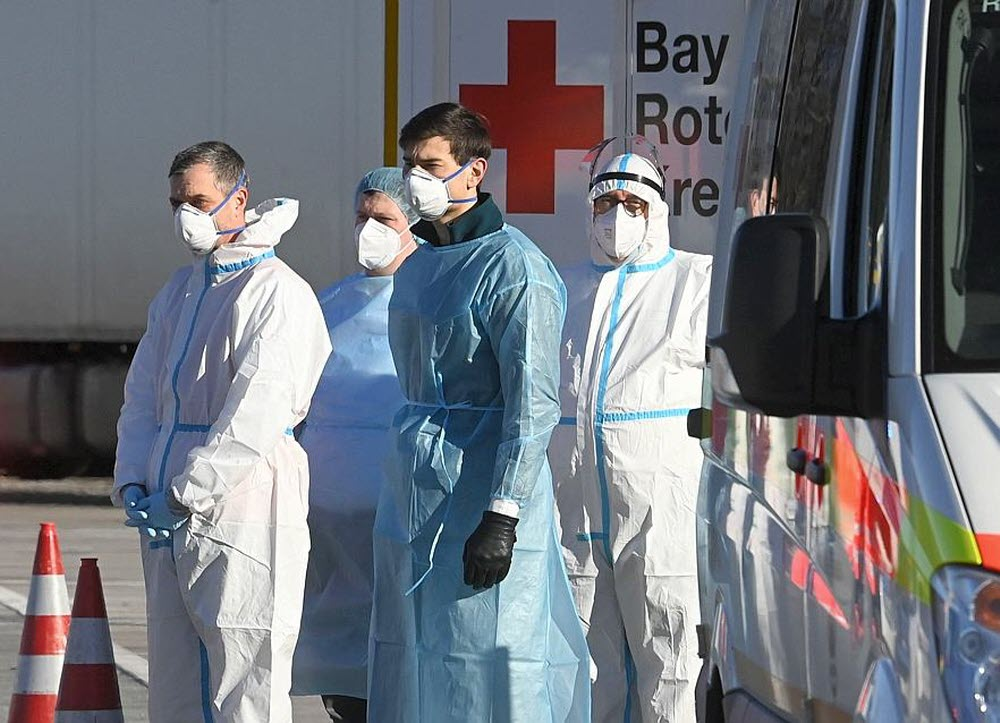with_mask: (166, 160, 246, 257), (400, 142, 481, 223), (353, 192, 406, 279), (589, 191, 653, 261)
